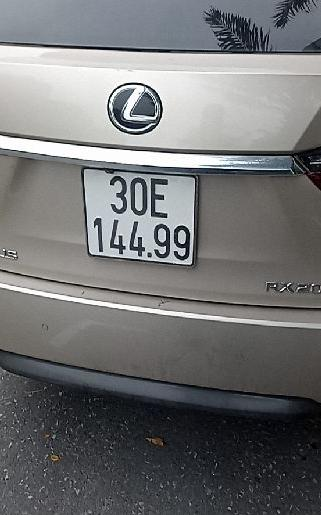Plate-iWeP: (81, 163, 202, 271)
